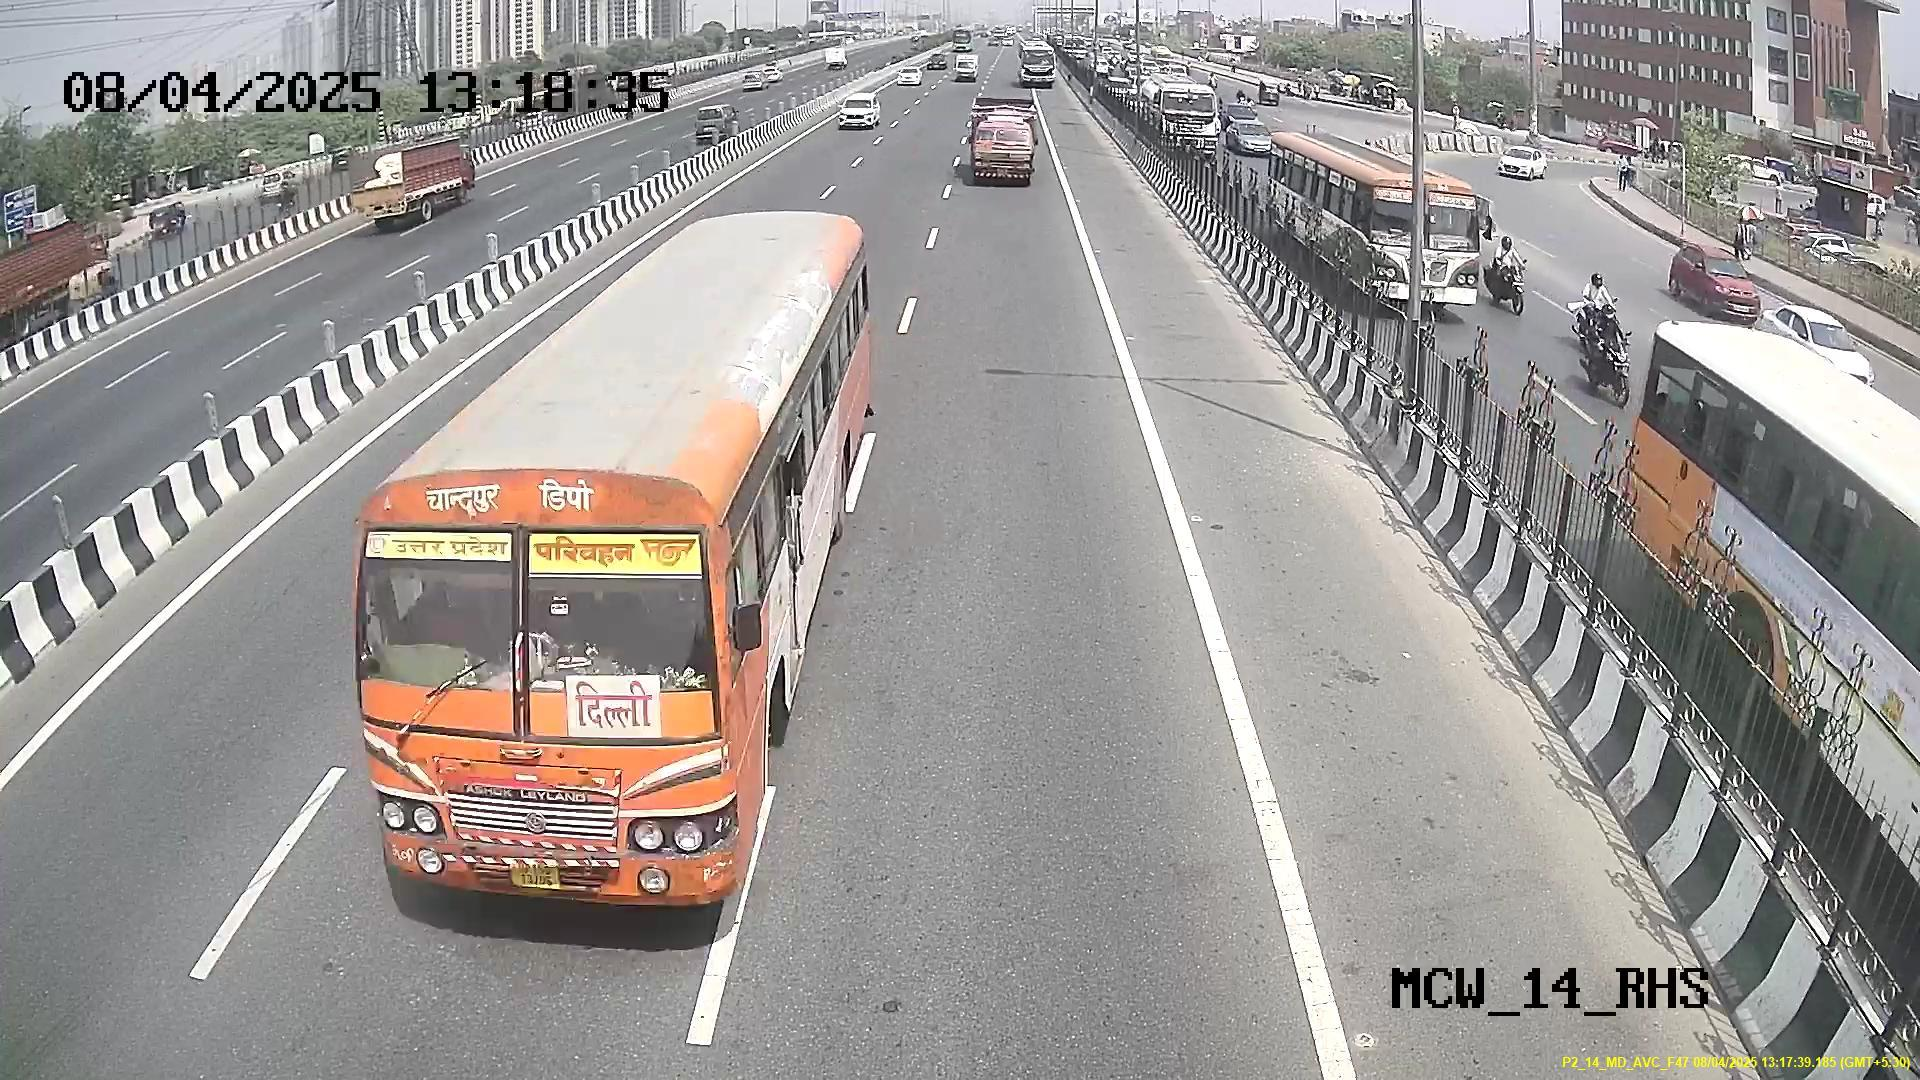bus: (332, 402, 783, 914)
lcv: (971, 113, 1040, 187)
